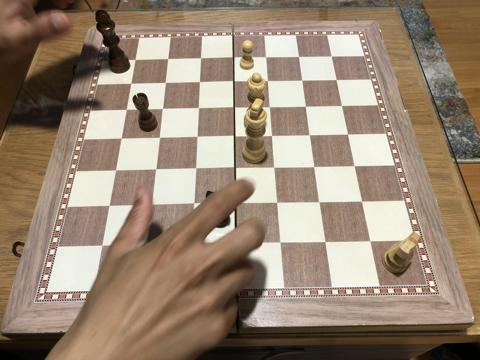xcorner: (260, 51, 272, 63), (227, 52, 239, 64), (195, 53, 207, 65), (162, 54, 174, 66), (130, 55, 142, 67), (330, 73, 342, 85), (296, 74, 308, 86), (227, 76, 239, 88), (193, 77, 205, 89), (159, 78, 171, 90), (336, 99, 348, 111), (228, 102, 240, 114), (192, 103, 204, 115), (121, 104, 133, 116), (342, 128, 354, 140), (266, 130, 278, 142), (190, 131, 202, 143), (153, 132, 165, 144), (116, 133, 128, 145), (348, 160, 360, 172), (308, 161, 320, 173), (268, 161, 280, 173), (228, 162, 240, 174), (149, 164, 161, 176), (110, 165, 122, 177), (313, 196, 325, 208), (271, 197, 283, 209), (145, 199, 157, 211), (103, 200, 115, 212), (364, 235, 376, 247), (184, 238, 196, 250), (140, 239, 152, 251), (96, 240, 108, 252), (325, 50, 337, 61), (262, 75, 273, 87), (126, 79, 138, 90), (300, 100, 311, 112), (264, 101, 275, 113), (156, 104, 168, 115), (304, 129, 315, 141), (228, 131, 240, 142), (189, 163, 200, 175), (356, 195, 367, 207), (229, 198, 240, 210), (187, 199, 199, 210), (319, 236, 330, 248), (274, 237, 285, 249), (229, 238, 241, 249), (293, 51, 304, 62)
